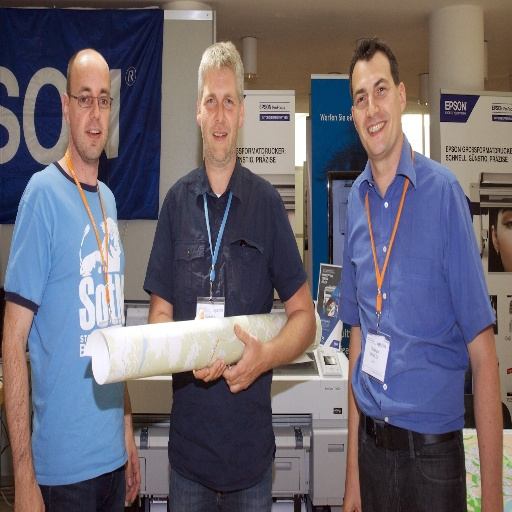hand: (221, 322, 267, 396), (192, 305, 228, 384), (124, 428, 141, 506), (12, 477, 44, 510), (344, 477, 358, 510)
